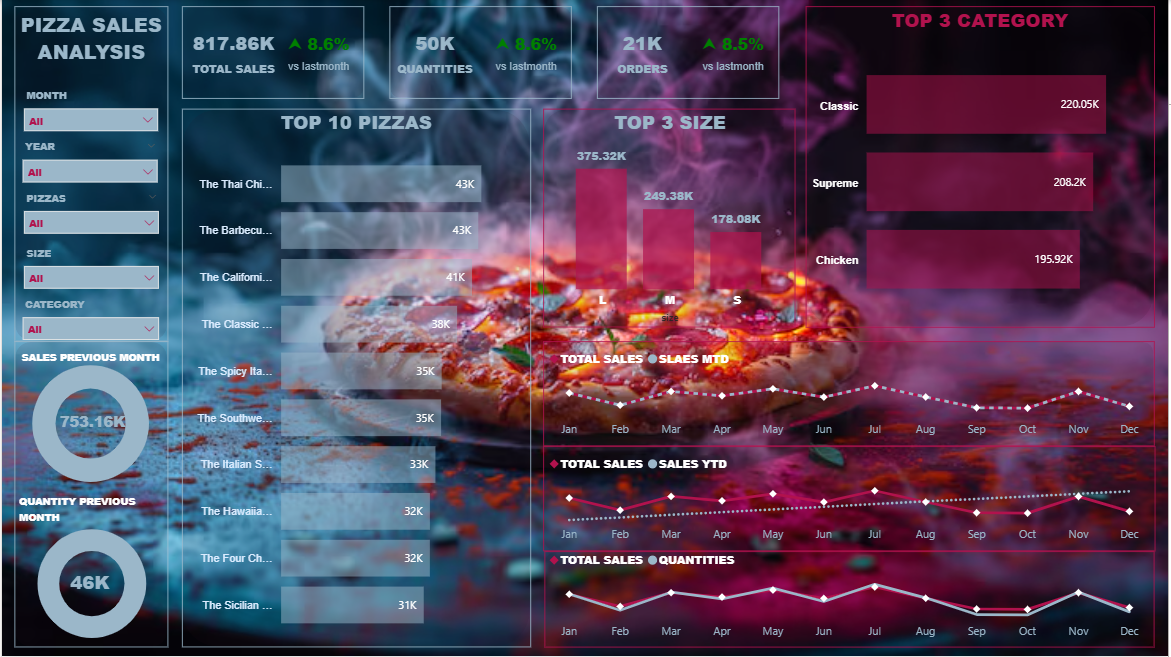

The page's visual inventory and layout, read from the dashboard file:
{"tool":"powerbi","page":{"name":"Page 1","canvas":[1280,720],"ordinal":0},"visuals":[{"type":"shape","box":[13.7,6.9,168.8,367.8],"z":0},{"type":"shape","box":[882.3,6.9,382.8,352.7],"z":1000},{"type":"shape","box":[197.9,7.2,200.3,101.3],"z":2000},{"type":"card","fields":{"Values":["MEASURES (2).TOTAL SALES"]},"box":[197.6,6.9,113.9,101.5],"z":3000},{"type":"shape","box":[425.4,6.9,200.3,101.5],"z":4000},{"type":"shape","box":[653.2,6.9,200.3,101.5],"z":5000},{"type":"card","fields":{"Values":["MEASURES (2).QUANTITIES"]},"box":[425.4,6.9,100.2,101.5],"z":6000},{"type":"card","fields":{"Values":["MEASURES (2).ORDERS"]},"box":[653.2,6.9,100.2,101.5],"z":7000},{"type":"textbox","box":[13.7,6.9,168.8,74.1],"z":8000},{"type":"shape","box":[197.6,119.4,382.8,591.4],"z":9000},{"type":"shape","box":[594.2,119.4,277.2,240.1],"z":10000},{"type":"slicer","fields":{"Values":["DIMDATE.Month"]},"box":[13.7,91.9,167.4,56.3],"z":11000},{"type":"slicer","fields":{"Values":["DIMDATE.Year"]},"box":[12.3,148.2,168.8,56.3],"z":12000},{"type":"clusteredBarChart","title":"TOP 10 PIZZAS","fields":{"Y":["MEASURES (2).TOTAL SALES"],"Category":["PIZZADATA.name"]},"box":[197.6,119.4,382.8,591.4],"z":13000},{"type":"shape","box":[594.2,374.6,671,115.3],"z":14000},{"type":"shape","box":[594.2,489.9,672.4,115.3],"z":15000},{"type":"shape","box":[595.5,605.1,669.6,105.7],"z":16000},{"type":"clusteredBarChart","title":"TOP 3 CATEGORY","fields":{"Category":["PIZZADATA.category"],"Y":["MEASURES (2).TOTAL SALES"]},"box":[882.3,6.9,382.8,352.7],"z":17000},{"type":"slicer","fields":{"Values":["PIZZADATA.name"]},"box":[13.7,204.5,168.8,60.4],"z":18000},{"type":"lineChart","fields":{"Y":["MEASURES (2).TOTAL SALES"],"Category":["DIMDATE.Month"],"Y2":["MEASURES (2).SLAES MTD"]},"box":[595.5,374.6,669.6,115.3],"z":19000},{"type":"lineChart","fields":{"Category":["DIMDATE.Month"],"Y":["MEASURES (2).TOTAL SALES"],"Y2":["MEASURES (2).SALES YTD"]},"box":[595.5,489.9,669.6,115.3],"z":20000},{"type":"columnChart","title":"TOP 3 SIZE","fields":{"Category":["PIZZADATA.size"],"Y":["MEASURES (2).TOTAL SALES"]},"box":[595.5,119.4,275.8,240.1],"z":21000},{"type":"slicer","fields":{"Values":["PIZZADATA.size"]},"box":[13.7,264.8,168.8,56.3],"z":22000},{"type":"shape","box":[13.7,374.6,168.8,336.2],"z":23000},{"type":"card","fields":{"Values":["MEASURES (2).PM SALES"]},"box":[15.1,415.8,168.8,98.8],"z":24000},{"type":"donutChart","fields":{"Y":["MEASURES (2).TOTAL SALES"]},"box":[12.3,377.4,170.2,170.2],"z":25000},{"type":"textbox","box":[16.5,377.4,167.4,63.1],"z":26000},{"type":"card","fields":{"Values":["MEASURES (2).vs lastmonth"]},"box":[297.8,6.9,100.2,101.5],"z":27000},{"type":"card","fields":{"Values":["MEASURES (2).Q PM"]},"box":[525.6,6.9,100.2,101.5],"z":28000},{"type":"card","fields":{"Values":["MEASURES (2).O PM"]},"box":[753.3,6.9,98.8,101.5],"z":29000},{"type":"card","fields":{"Values":["MEASURES (2).PMQ"]},"box":[11,570.8,171.5,140],"z":30000},{"type":"donutChart","fields":{"Y":["MEASURES (2).TOTAL SALES"]},"box":[0,561.2,197.6,149.6],"z":31000},{"type":"textbox","box":[13.7,535.2,168.8,46.7],"z":32000},{"type":"lineChart","fields":{"Category":["DIMDATE.Month"],"Y":["MEASURES (2).TOTAL SALES"],"Y2":["MEASURES (2).QUANTITIES"]},"box":[595.5,595.5,669.6,115.3],"z":33000},{"type":"slicer","fields":{"Values":["PIZZADATA.category"]},"box":[12.3,321.1,170.2,53.5],"z":34000}]}

Visuals, with their boxes in screenshot pixels (x1, y1, x2, y2), scaled from the page's 1280x720 canvas onto the 1171x657 screenshot:
shape: <region>13, 6, 167, 342</region>
shape: <region>807, 6, 1157, 328</region>
shape: <region>181, 7, 364, 99</region>
card - MEASURES (2).TOTAL SALES: <region>181, 6, 285, 99</region>
shape: <region>389, 6, 572, 99</region>
shape: <region>598, 6, 781, 99</region>
card - MEASURES (2).QUANTITIES: <region>389, 6, 481, 99</region>
card - MEASURES (2).ORDERS: <region>598, 6, 689, 99</region>
textbox: <region>13, 6, 167, 74</region>
shape: <region>181, 109, 531, 649</region>
shape: <region>544, 109, 797, 328</region>
slicer - DIMDATE.Month: <region>13, 84, 166, 135</region>
slicer - DIMDATE.Year: <region>11, 135, 166, 187</region>
"TOP 10 PIZZAS" clusteredBarChart: <region>181, 109, 531, 649</region>
shape: <region>544, 342, 1157, 447</region>
shape: <region>544, 447, 1159, 552</region>
shape: <region>545, 552, 1157, 649</region>
"TOP 3 CATEGORY" clusteredBarChart: <region>807, 6, 1157, 328</region>
slicer - PIZZADATA.name: <region>13, 187, 167, 242</region>
lineChart - MEASURES (2).TOTAL SALES x DIMDATE.Month: <region>545, 342, 1157, 447</region>
lineChart - DIMDATE.Month x MEASURES (2).TOTAL SALES: <region>545, 447, 1157, 552</region>
"TOP 3 SIZE" columnChart: <region>545, 109, 797, 328</region>
slicer - PIZZADATA.size: <region>13, 242, 167, 293</region>
shape: <region>13, 342, 167, 649</region>
card - MEASURES (2).PM SALES: <region>14, 379, 168, 470</region>
donutChart - MEASURES (2).TOTAL SALES: <region>11, 344, 167, 500</region>
textbox: <region>15, 344, 168, 402</region>
card - MEASURES (2).vs lastmonth: <region>272, 6, 364, 99</region>
card - MEASURES (2).Q PM: <region>481, 6, 573, 99</region>
card - MEASURES (2).O PM: <region>689, 6, 780, 99</region>
card - MEASURES (2).PMQ: <region>10, 521, 167, 649</region>
donutChart - MEASURES (2).TOTAL SALES: <region>0, 512, 181, 649</region>
textbox: <region>13, 488, 167, 531</region>
lineChart - DIMDATE.Month x MEASURES (2).TOTAL SALES: <region>545, 543, 1157, 649</region>
slicer - PIZZADATA.category: <region>11, 293, 167, 342</region>
